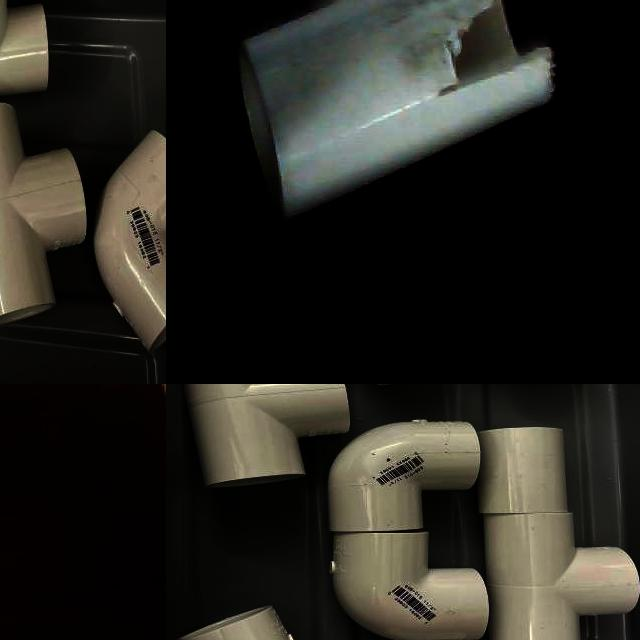Defective: (416, 46, 558, 158), (454, 0, 522, 88), (440, 40, 462, 94)
L Joint: (328, 419, 483, 533), (330, 532, 490, 640), (98, 130, 166, 353)
T Joint: (234, 0, 557, 225), (482, 509, 640, 640), (0, 104, 91, 322), (181, 384, 353, 491)
